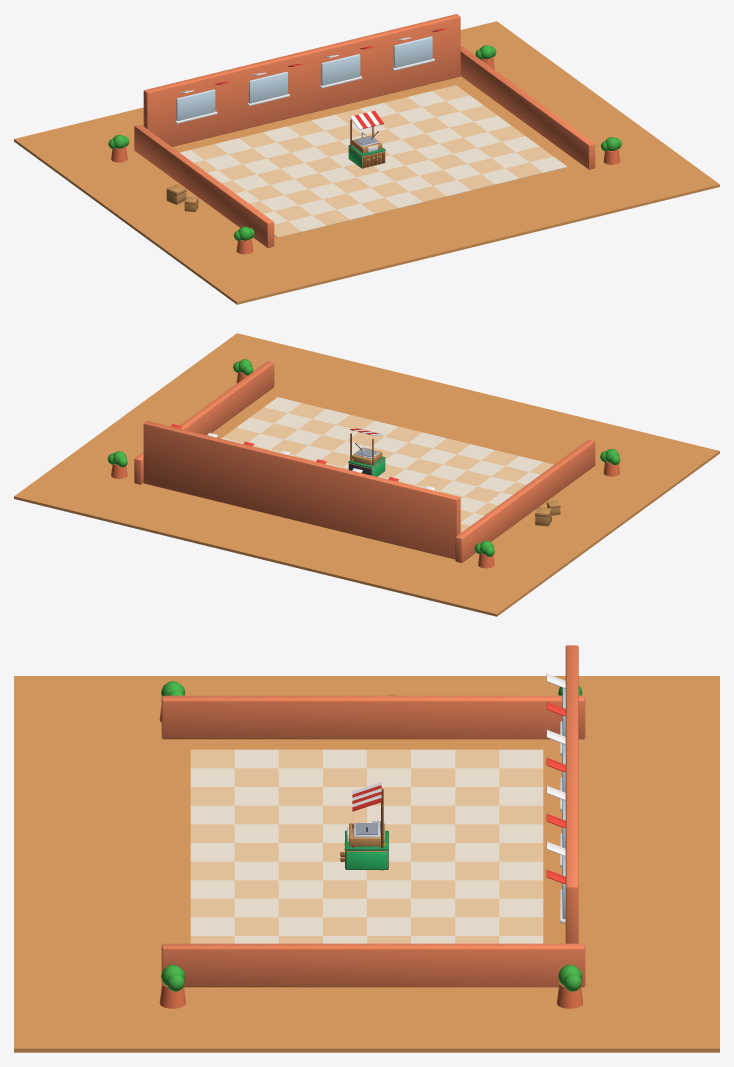
The model's file is kitchen.glb.
3 renders of one model, top to bottom at view 1: azimuth 30°, elevation 25°; view 2: azimuth 150°, elevation 25°; view 3: azimuth 270°, elevation 25°, orthographic. The views are drawn at different scales.
Visible parts, largest first — view 1: k_room_m, k_serve_m; view 2: k_room_m, k_serve_m; view 3: k_room_m, k_serve_m.
Part boxes in pixels (x1=…): k_room_m: x1=14, y1=14, x2=719, y2=304; k_serve_m: x1=348, y1=110, x2=385, y2=168; k_room_m: x1=14, y1=333, x2=719, y2=616; k_serve_m: x1=348, y1=428, x2=385, y2=476; k_room_m: x1=14, y1=645, x2=719, y2=1052; k_serve_m: x1=345, y1=782, x2=388, y2=870.
Size of the model in its own units: 20 by 2.52 by 16.
